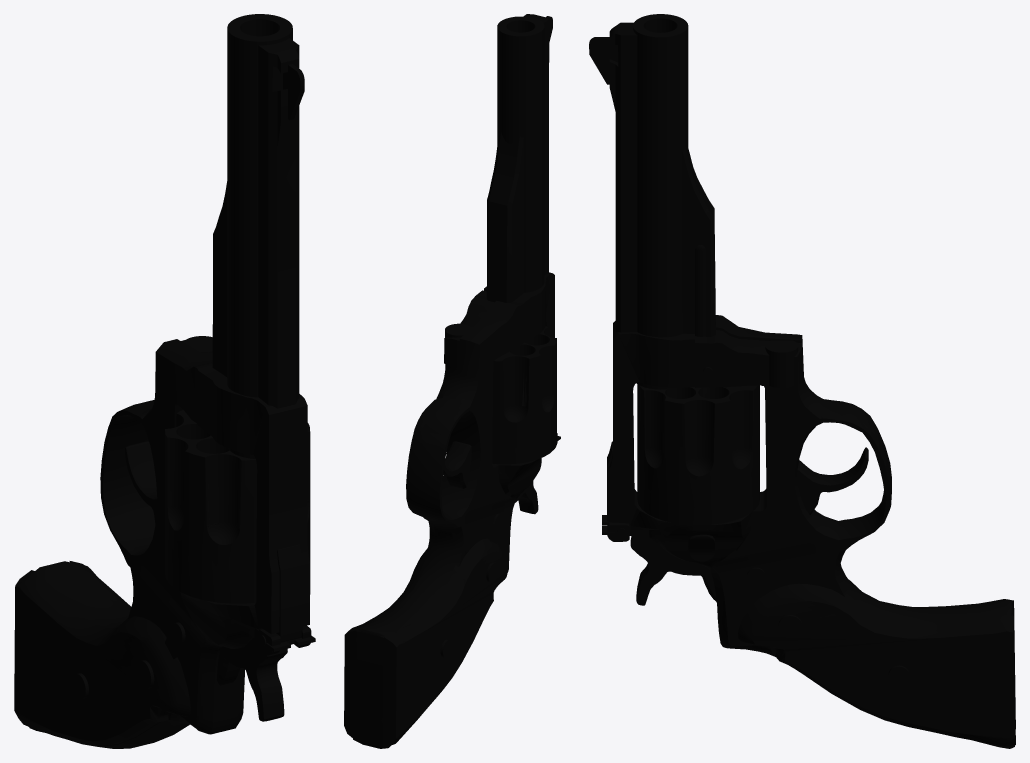
The model's file is RugerSuperRedhawk.fbx.
The picture shows the model from 3 angles, left to right: view 1: azimuth 30°, elevation 25°; view 2: azimuth 150°, elevation 25°; view 3: azimuth 270°, elevation 25°; orthographic projection. The views are drawn at different scales.
Parts seen in each view (by area): view 1: asset_RugerSuperRedhawk.001; view 2: asset_RugerSuperRedhawk.001; view 3: asset_RugerSuperRedhawk.001.
Part boxes in pixels (box(x1,y1,x2,y2)): asset_RugerSuperRedhawk.001: box(14, 14, 315, 748); asset_RugerSuperRedhawk.001: box(344, 14, 560, 748); asset_RugerSuperRedhawk.001: box(589, 14, 1015, 748).
Bounding box in the file's own units: 0.0293 × 0.189 × 0.1019.
